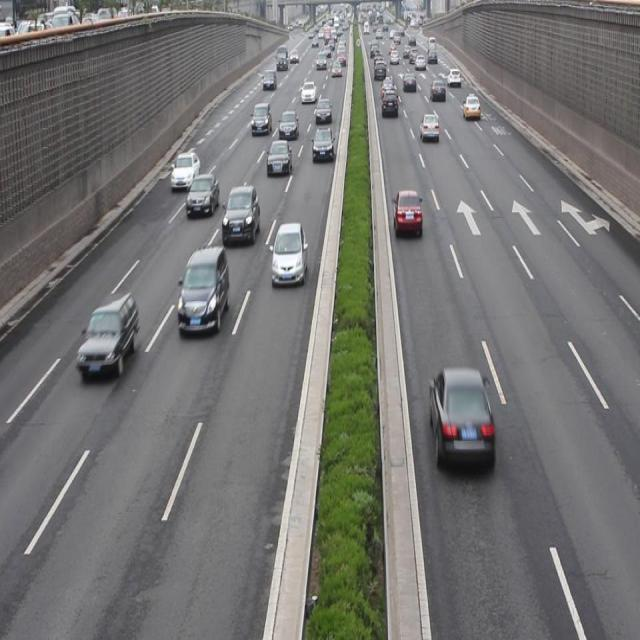car: (428, 366, 494, 468), (74, 289, 139, 375), (178, 243, 230, 333), (272, 220, 306, 286), (222, 186, 259, 245), (393, 187, 422, 237), (185, 174, 218, 216), (170, 151, 200, 189), (266, 138, 291, 176), (312, 124, 334, 160), (278, 109, 299, 142), (418, 111, 440, 142), (250, 102, 271, 134), (462, 92, 479, 120)
